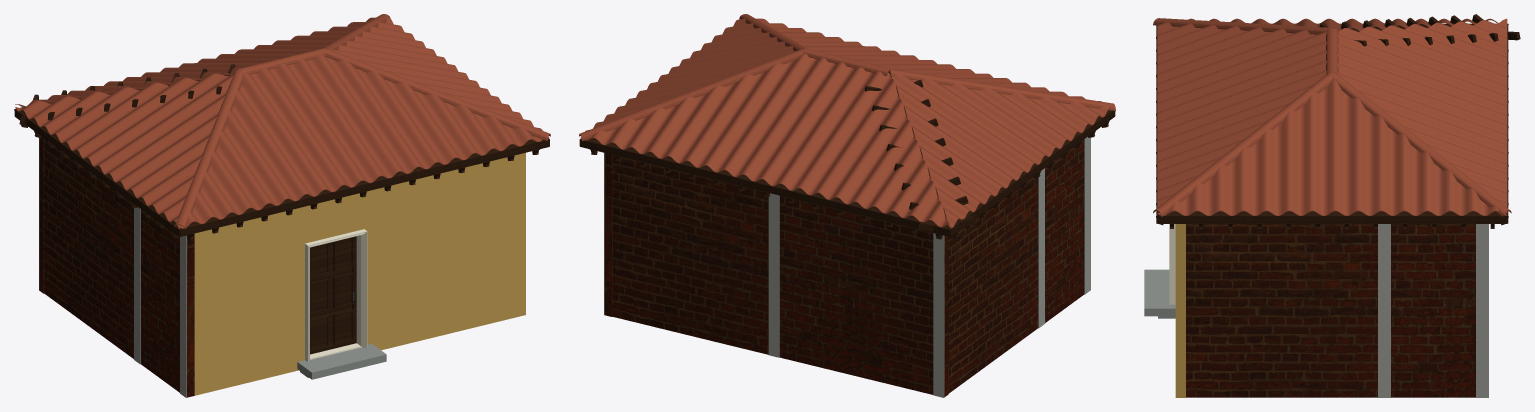
File: building.glb
The picture shows the model from 3 angles, left to right: view 1: azimuth 30°, elevation 25°; view 2: azimuth 150°, elevation 25°; view 3: azimuth 270°, elevation 25°; orthographic projection. The views are drawn at different scales.
Visible parts, largest first — view 1: house:0/edge0/z0/house:0/edge0/z0/wall_0_0, house:0/edge3/z0/house:0/edge3/z0/wall_0_0, roof_assembly/cubierta/roof_fascia#0003, site/entrance/0/entrance_step#0002, roof_assembly/cubierta/roof_fascia#0001, house:0/edge3/z0/house:0/edge3/z0/column_1_0, house:0/edge3/z0/house:0/edge3/z0/column_2_0, house:0/edge0/z0/opening_u2.80_v0.12/door_panel_back#0001, house:0/edge2/z0/house:0/edge2/z0/wall_0_0, house:0/edge0/z0/opening_u2.80_v0.12/door_reveal#0001, roof_assembly/cubierta/roof_substrate#0002, house:0/edge0/z0/opening_u2.80_v0.12/door_leaf_frame#0001 (+7 smaller); view 2: house:0/edge2/z0/house:0/edge2/z0/wall_0_0, house:0/edge3/z0/house:0/edge3/z0/wall_0_0, roof_assembly/cubierta/roof_fascia#0006, house:0/edge2/z0/house:0/edge2/z0/column_2_0, house:0/edge2/z0/house:0/edge2/z0/column_1_0, house:0/edge1/z0/house:0/edge1/z0/wall_0_0, roof_assembly/cubierta/roof_fascia#0001, house:0/edge3/z0/house:0/edge3/z0/column_1_0, house:0/edge3/z0/house:0/edge3/z0/column_2_0, roof_assembly/cubierta/roof_substrate#0004; view 3: house:0/edge1/z0/house:0/edge1/z0/wall_0_0, roof_assembly/cubierta/roof_fascia#0004, house:0/edge1/z0/house:0/edge1/z0/column_1_0, house:0/edge1/z0/house:0/edge1/z0/column_2_0, house:0/edge0/z0/house:0/edge0/z0/wall_0_0, site/entrance/0/entrance_step#0002, roof_assembly/cubierta/roof_substrate#0003, house:0/edge0/z0/opening_u2.80_v0.12/door_moulding#0028, roof_assembly/cubierta/roof_fascia#0003, roof_assembly/cubierta/roof_fascia#0006.
Boxes of the visible parts, bbox=[...] form: house:0/edge0/z0/house:0/edge0/z0/wall_0_0: bbox=[194, 152, 525, 395]; house:0/edge3/z0/house:0/edge3/z0/wall_0_0: bbox=[44, 138, 194, 397]; roof_assembly/cubierta/roof_fascia#0003: bbox=[179, 139, 549, 236]; site/entrance/0/entrance_step#0002: bbox=[297, 344, 386, 379]; roof_assembly/cubierta/roof_fascia#0001: bbox=[14, 109, 179, 236]; house:0/edge3/z0/house:0/edge3/z0/column_1_0: bbox=[180, 235, 186, 397]; house:0/edge3/z0/house:0/edge3/z0/column_2_0: bbox=[134, 207, 140, 364]; house:0/edge0/z0/opening_u2.80_v0.12/door_panel_back#0001: bbox=[310, 242, 352, 345]; house:0/edge2/z0/house:0/edge2/z0/wall_0_0: bbox=[39, 137, 44, 293]; house:0/edge0/z0/opening_u2.80_v0.12/door_reveal#0001: bbox=[305, 229, 364, 359]; roof_assembly/cubierta/roof_substrate#0002: bbox=[180, 139, 544, 228]; house:0/edge0/z0/opening_u2.80_v0.12/door_leaf_frame#0001: bbox=[310, 236, 356, 354]; house:0/edge2/z0/house:0/edge2/z0/wall_0_0: bbox=[613, 155, 948, 397]; house:0/edge3/z0/house:0/edge3/z0/wall_0_0: bbox=[948, 139, 1084, 393]; roof_assembly/cubierta/roof_fascia#0006: bbox=[580, 139, 949, 236]; house:0/edge2/z0/house:0/edge2/z0/column_2_0: bbox=[768, 193, 779, 357]; house:0/edge2/z0/house:0/edge2/z0/column_1_0: bbox=[933, 233, 944, 397]; house:0/edge1/z0/house:0/edge1/z0/wall_0_0: bbox=[604, 153, 612, 316]; roof_assembly/cubierta/roof_fascia#0001: bbox=[950, 110, 1115, 236]; house:0/edge3/z0/house:0/edge3/z0/column_1_0: bbox=[1084, 137, 1090, 294]; house:0/edge3/z0/house:0/edge3/z0/column_2_0: bbox=[1038, 168, 1044, 328]; roof_assembly/cubierta/roof_substrate#0004: bbox=[588, 138, 948, 228]; house:0/edge1/z0/house:0/edge1/z0/wall_0_0: bbox=[1186, 224, 1475, 397]; roof_assembly/cubierta/roof_fascia#0004: bbox=[1157, 215, 1507, 223]; house:0/edge1/z0/house:0/edge1/z0/column_1_0: bbox=[1476, 224, 1488, 397]; house:0/edge1/z0/house:0/edge1/z0/column_2_0: bbox=[1378, 224, 1390, 397]; house:0/edge0/z0/house:0/edge0/z0/wall_0_0: bbox=[1175, 224, 1185, 397]; site/entrance/0/entrance_step#0002: bbox=[1144, 269, 1175, 316]; roof_assembly/cubierta/roof_substrate#0003: bbox=[1159, 211, 1504, 215]; house:0/edge0/z0/opening_u2.80_v0.12/door_moulding#0028: bbox=[1169, 224, 1175, 304]; roof_assembly/cubierta/roof_fascia#0003: bbox=[1156, 25, 1158, 223]; roof_assembly/cubierta/roof_fascia#0006: bbox=[1506, 24, 1508, 223].
Bounding box in the file's own units: 9.04 × 5.52 × 7.21.
8 materials, 2 textured.
